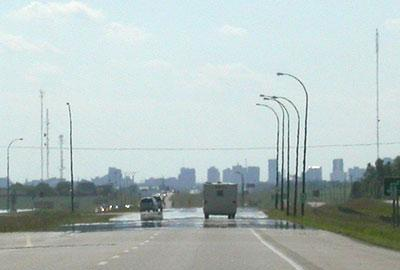bus: (203, 180, 239, 221)
car: (138, 197, 160, 213)
